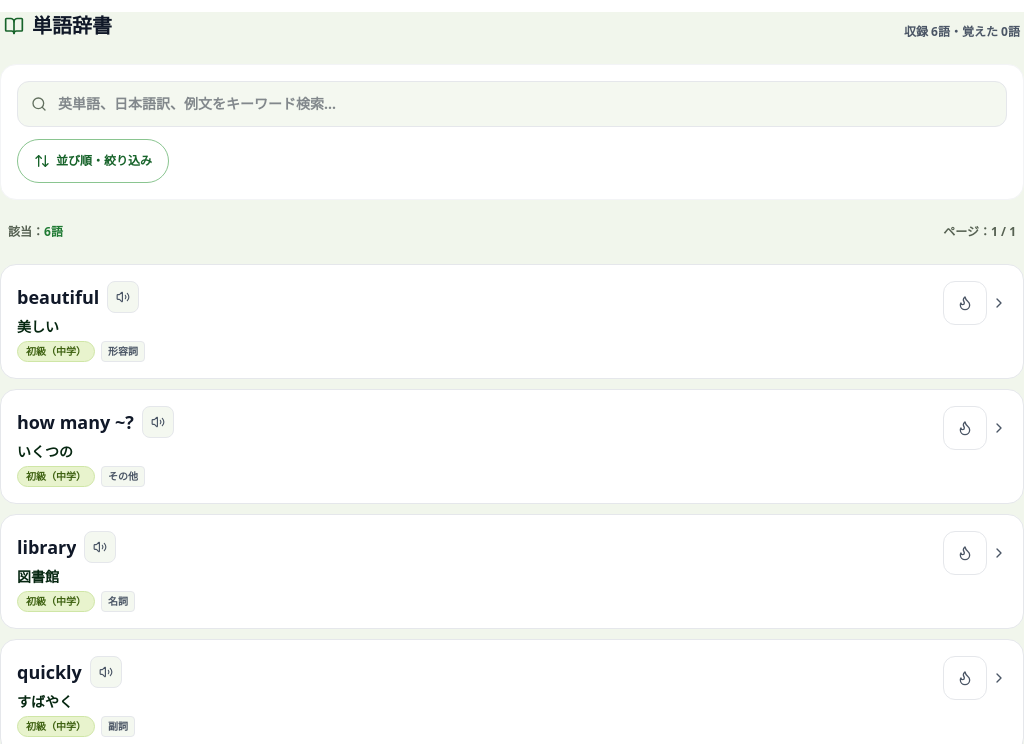
Test: 品詞での絞り込み › 品詞ごとの件数を並べる
Click the button with id "btn_toggle_dictionary_filters": (93, 161) x1=17 y1=139 x2=169 y2=183
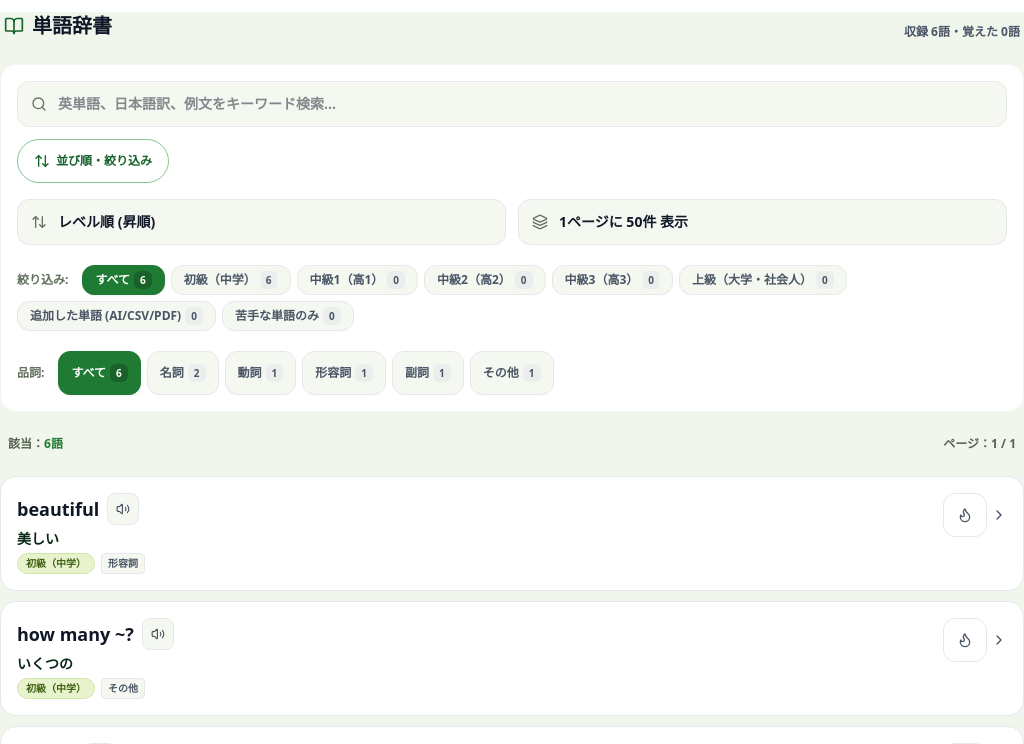
expect the text "すべて" next to "品詞:" is shown: met, box x1=71 y1=364 x2=106 y2=381
expect the text "名詞" is shown: met, box x1=160 y1=364 x2=184 y2=381
expect the text "動詞" is shown: met, box x1=238 y1=364 x2=262 y2=381
